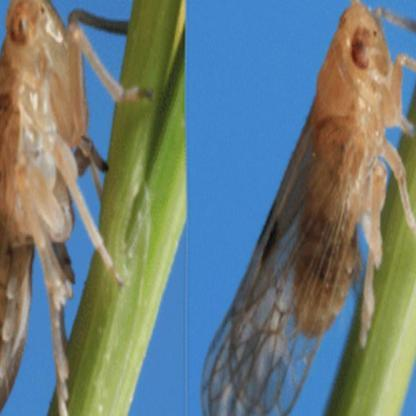brown-planthopper: (198, 3, 406, 416), (0, 1, 87, 407)
